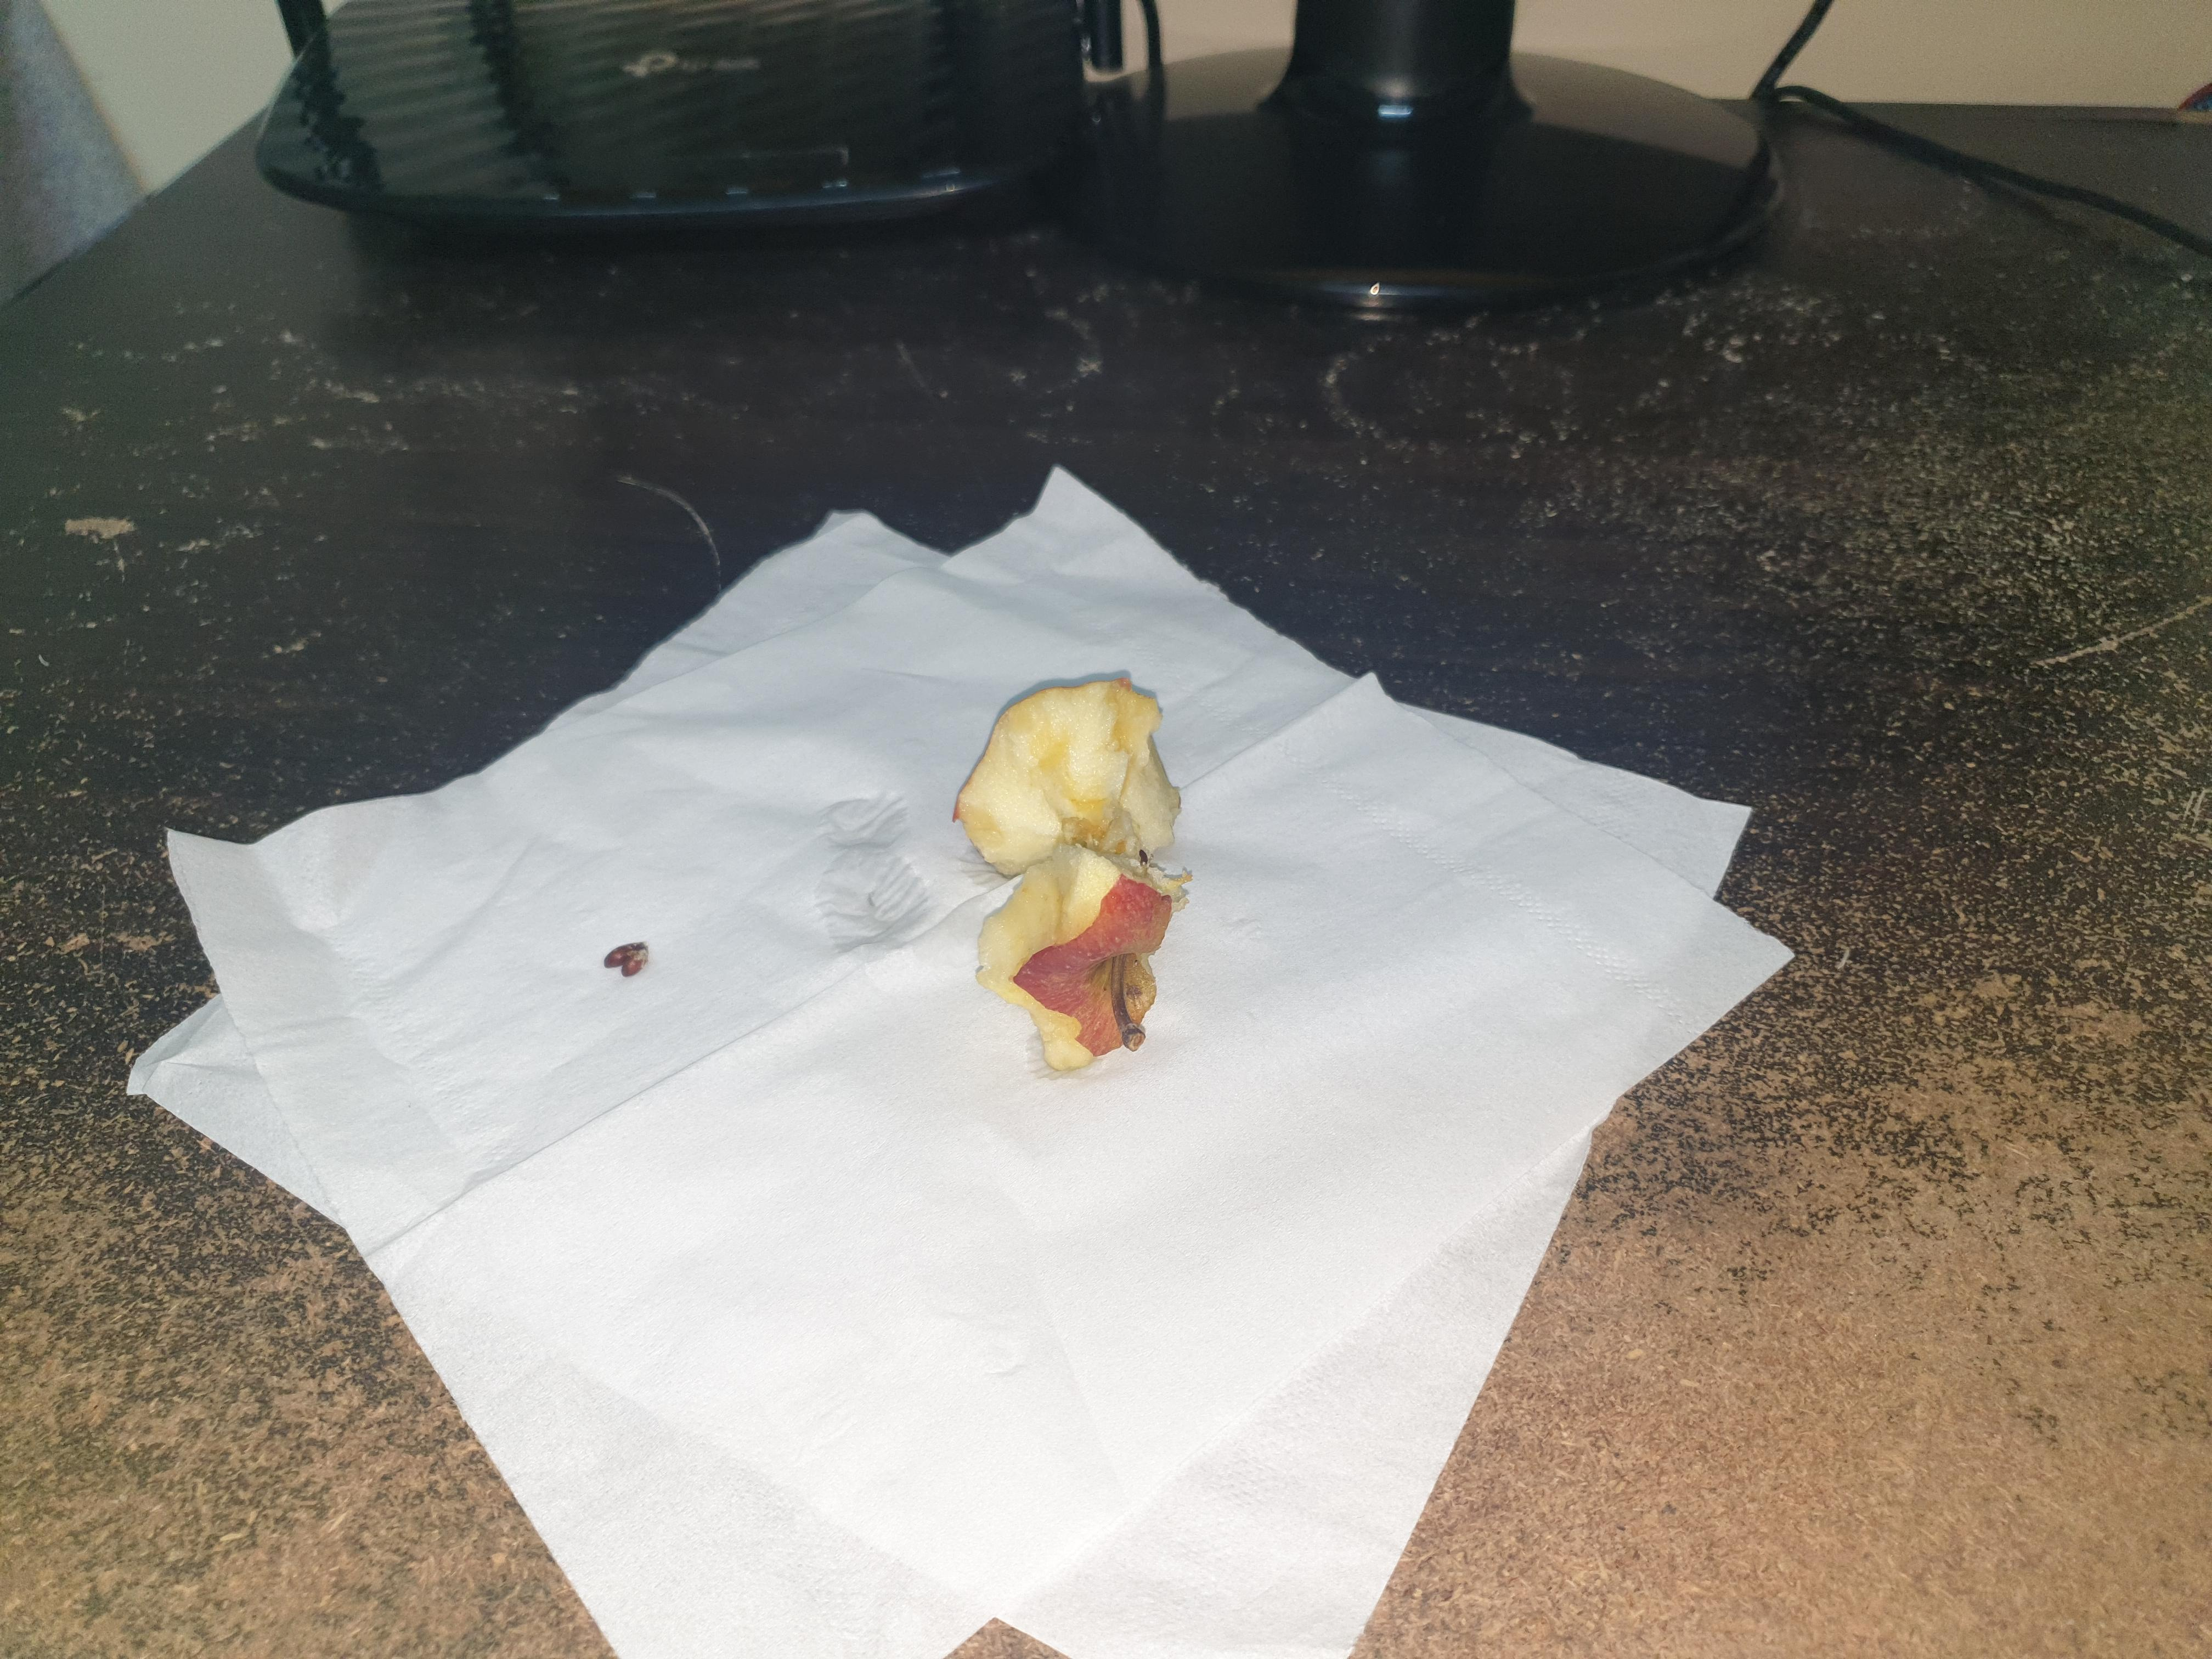Apple: (935, 650, 1205, 1094)
